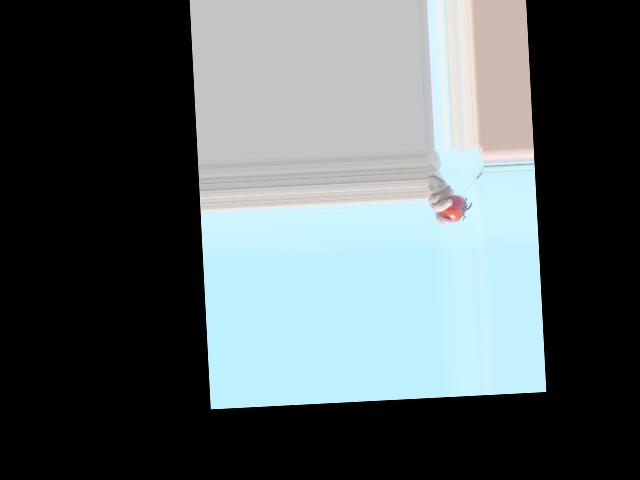tomato: (438, 194, 467, 223)
